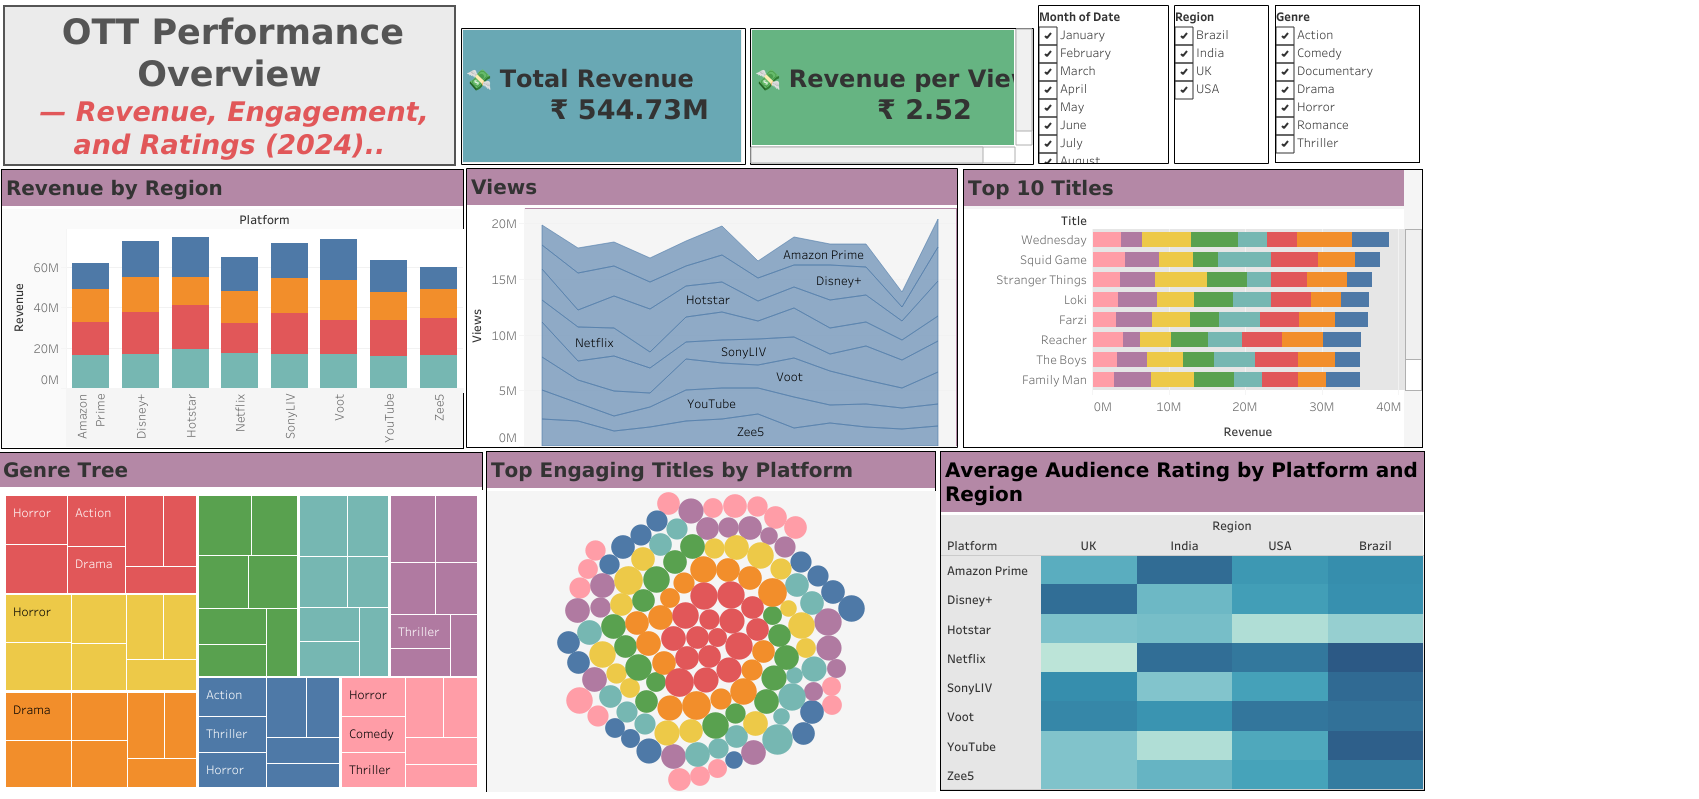

Layout of this report page (visuals, bound fields, positions):
{"tool":"tableau","page":{"name":"Dashboard 1","canvas":[1000,1000],"units":"permille","ordinal":0},"visuals":[{"type":"text","box":[1.8,6.2,266.4,201.2]},{"type":"filter","title":"Views","param":"[federated.07yf63z0haxw3a1d0bdrx1rfx7md].[mn:Date:ok]","box":[610.7,6.2,76.6,198.8]},{"type":"filter","title":"Revenue by Region","param":"[federated.07yf63z0haxw3a1d0bdrx1rfx7md].[none:Region:nk]","box":[690.4,6.2,55.9,198.8]},{"type":"filter","title":"Revenue by Region","param":"[federated.07yf63z0haxw3a1d0bdrx1rfx7md].[none:Genre:nk]","box":[750.2,6.2,85.1,197.5]},{"type":"worksheet","title":"Total Revenue","mark":"Automatic","box":[271.1,35,167.9,171.2]},{"type":"worksheet","title":"Revenue","mark":"Automatic","box":[441.4,35,166.8,171.2]},{"type":"worksheet","title":"Views","mark":"Automatic","rows":["Views"],"cols":["Date"],"box":[274,210,289.3,350]},{"type":"worksheet","title":"Revenue by Region","mark":"Automatic","rows":["Revenue"],"cols":["Platform"],"box":[0.6,211,272.4,350.8]},{"type":"worksheet","title":"Top 10 Titles","mark":"Automatic","rows":["Title"],"cols":["Revenue"],"box":[566.5,211,270.6,349.6]},{"type":"worksheet","title":"Top Engaging Titles by Platform","mark":"Circle","box":[285.8,563.8,264.6,426.2]},{"type":"worksheet","title":"Average Audience Rating by Platform and Region","mark":"Automatic","rows":["Platform"],"cols":["Region"],"box":[552.7,563.8,285.2,425]}]}

Visuals, with their boxes on the dashboard's canvas, which has no fixed pixel size, in thousandths of its width and height (x1, y1, x2, y2). These are canvas units, not pixel positions in the 1699x799 screenshot, which may show the page scaled, cropped or inside an application window:
text: <bbox>2, 6, 268, 207</bbox>
"Views" filter: <bbox>611, 6, 687, 205</bbox>
"Revenue by Region" filter: <bbox>690, 6, 746, 205</bbox>
"Revenue by Region" filter: <bbox>750, 6, 835, 204</bbox>
"Total Revenue" worksheet: <bbox>271, 35, 439, 206</bbox>
"Revenue" worksheet: <bbox>441, 35, 608, 206</bbox>
"Views" worksheet: <bbox>274, 210, 563, 560</bbox>
"Revenue by Region" worksheet: <bbox>1, 211, 273, 562</bbox>
"Top 10 Titles" worksheet: <bbox>566, 211, 837, 561</bbox>
"Top Engaging Titles by Platform" worksheet (Circle marks): <bbox>286, 564, 550, 990</bbox>
"Average Audience Rating by Platform and Region" worksheet: <bbox>553, 564, 838, 989</bbox>
